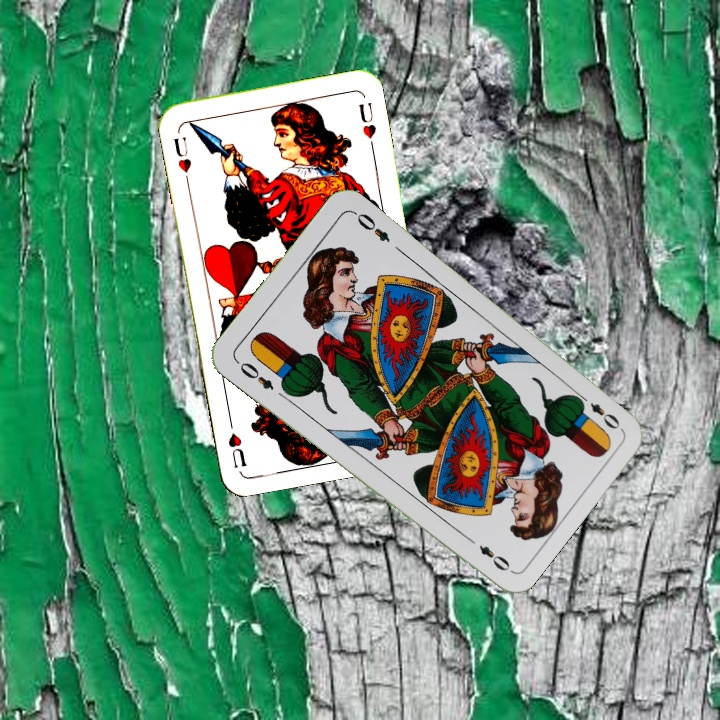EO: (572, 389, 623, 432), (231, 356, 277, 393)
HU: (169, 133, 194, 176)
